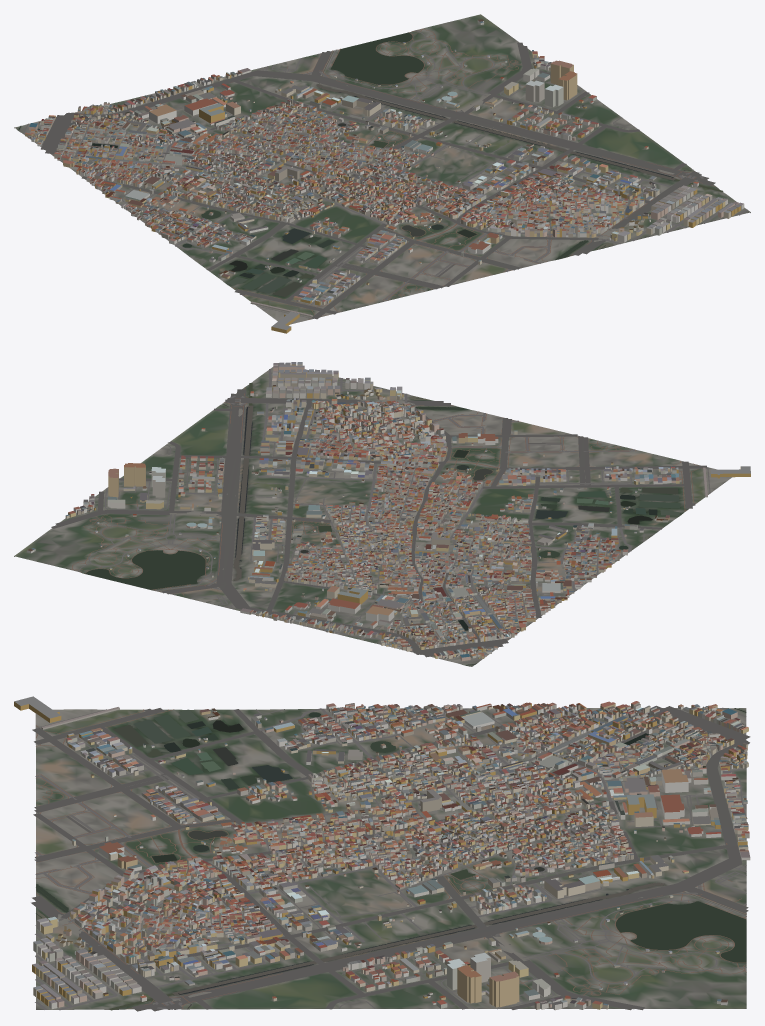
The picture shows the model from 3 angles, top to bottom: view 1: azimuth 30°, elevation 25°; view 2: azimuth 150°, elevation 25°; view 3: azimuth 270°, elevation 25°; orthographic projection. The views are drawn at different scales.
Visible parts, largest first — view 1: buildings, ground, roads, water; view 2: buildings, ground, roads, water; view 3: buildings, ground, roads, water.
Boxes of the visible parts, bbox=[...] form: buildings: bbox=[25, 19, 744, 333]; ground: bbox=[14, 14, 750, 324]; roads: bbox=[23, 28, 747, 319]; water: bbox=[18, 32, 723, 296]; buildings: bbox=[27, 362, 750, 661]; ground: bbox=[14, 363, 732, 666]; roads: bbox=[51, 365, 710, 663]; water: bbox=[85, 383, 680, 665]; buildings: bbox=[14, 696, 750, 1010]; ground: bbox=[35, 708, 746, 1009]; roads: bbox=[31, 705, 750, 1011]; water: bbox=[36, 708, 746, 1010].
Bounding box in the file's own units: 1452 × 61.47 × 1454.
